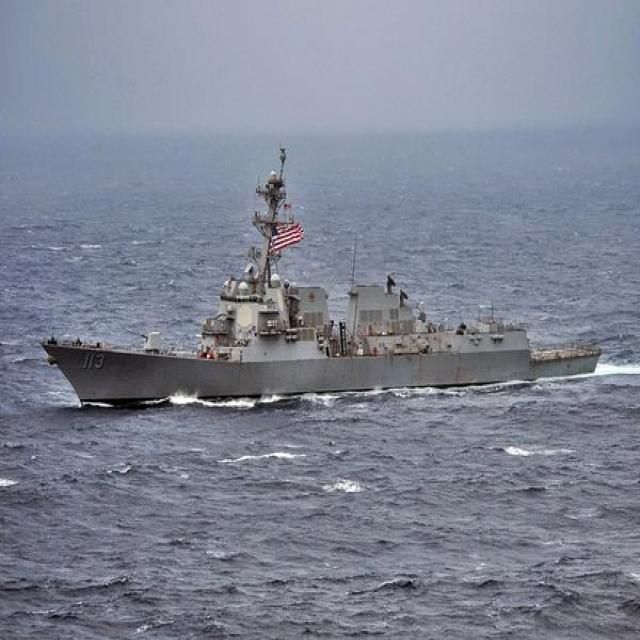navalvessels: (34, 136, 608, 410)
